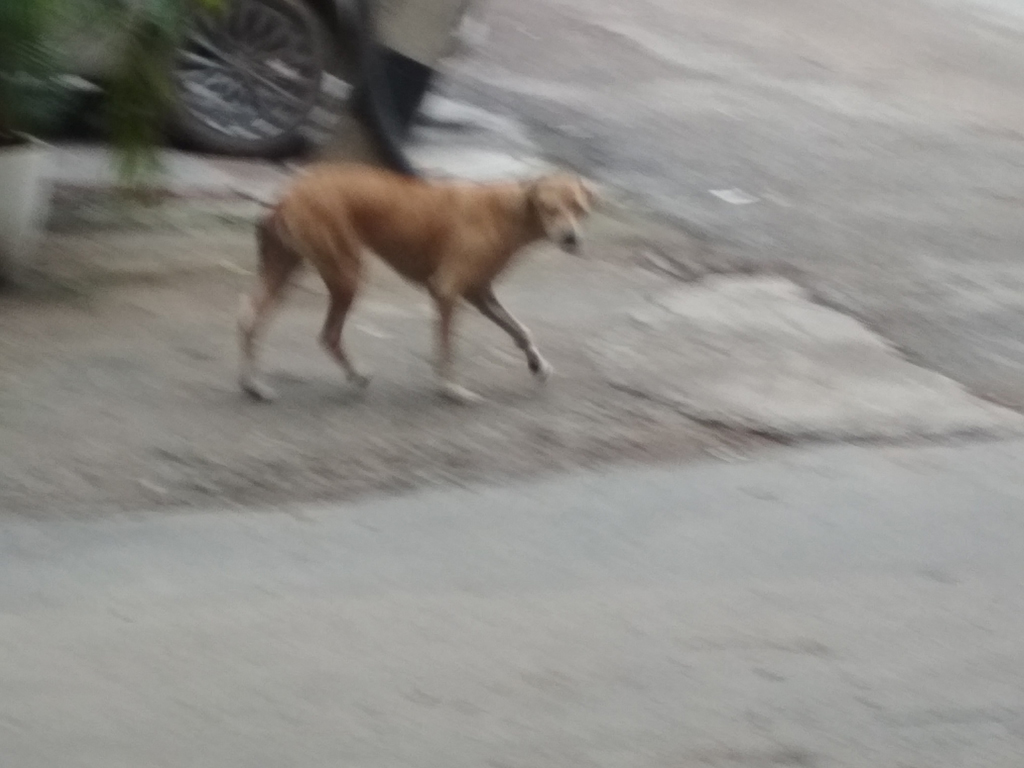dog: (232, 163, 600, 404)
